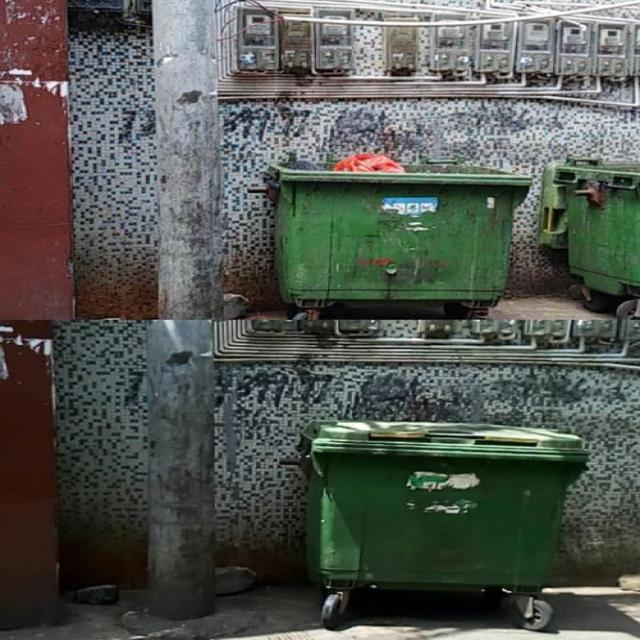garbage_bin: (296, 417, 586, 590), (536, 157, 639, 294)
overflow: (271, 152, 529, 299)
